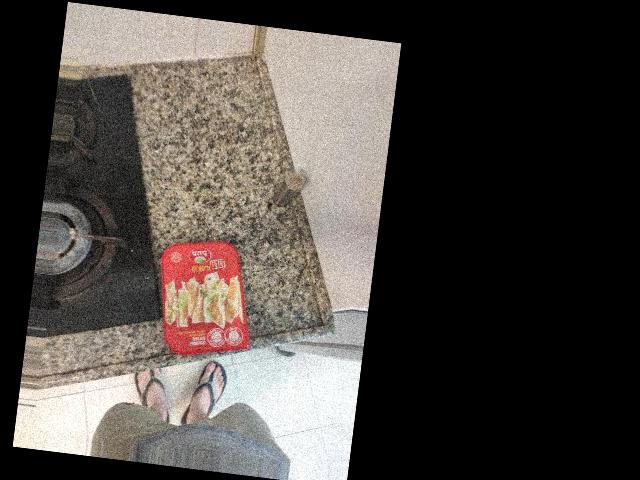cheese: (156, 150, 265, 267)
